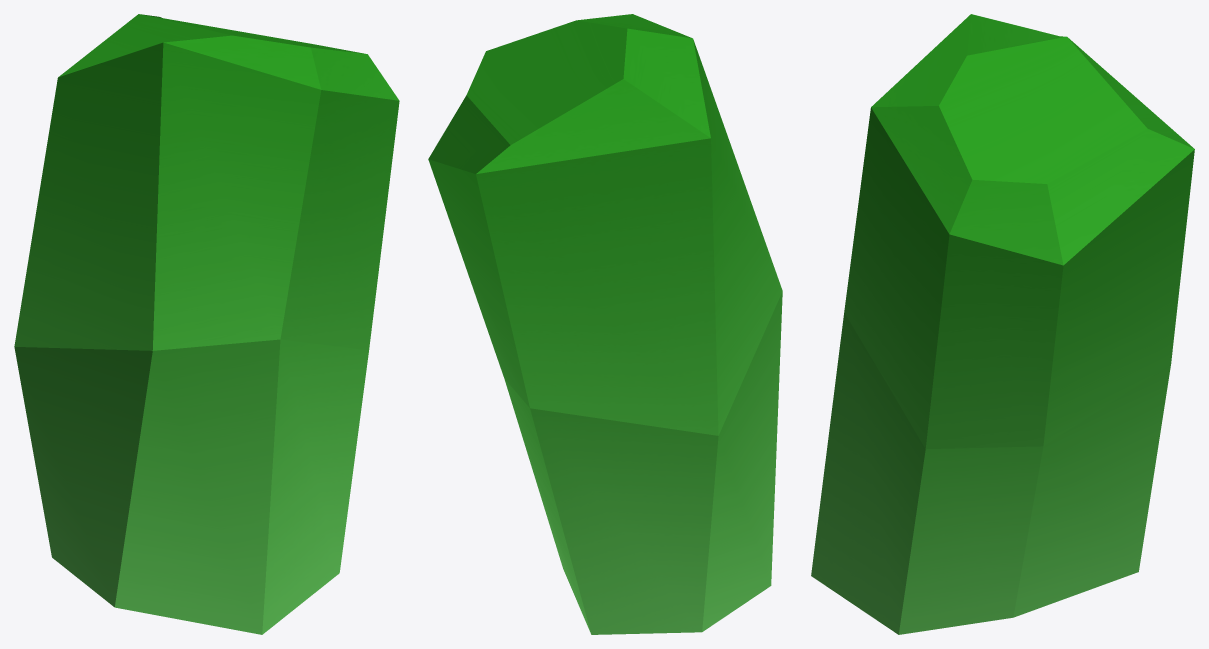
Rendered from Cristal02.fbx.
3 renders of one model, left to right at view 1: azimuth 30°, elevation 25°; view 2: azimuth 150°, elevation 25°; view 3: azimuth 270°, elevation 25°, orthographic. The views are drawn at different scales.
Visible parts, largest first — view 1: Cylinder.013; view 2: Cylinder.013; view 3: Cylinder.013.
Boxes of the visible parts, box(x1,y1,x2,y2) form: Cylinder.013: box(14, 14, 399, 634); Cylinder.013: box(428, 14, 782, 634); Cylinder.013: box(811, 14, 1194, 634).
Bounding box in the file's own units: 168 × 277 × 174.
